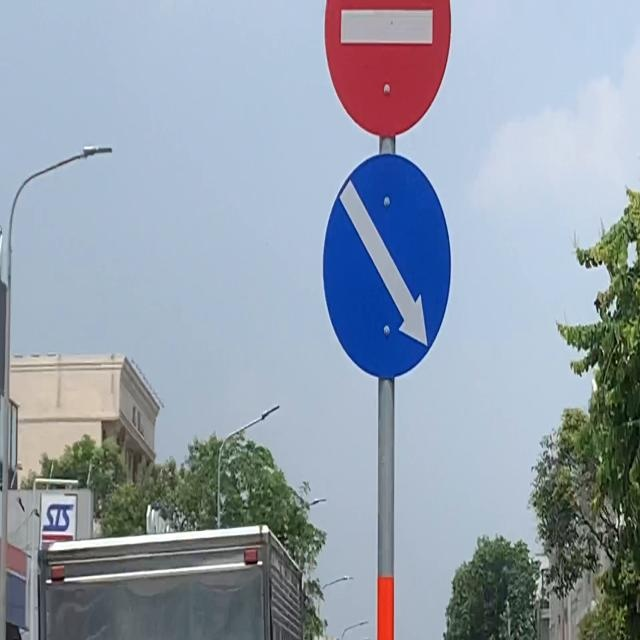bien_hieu_lenh: (319, 144, 456, 384), (323, 0, 458, 139)
